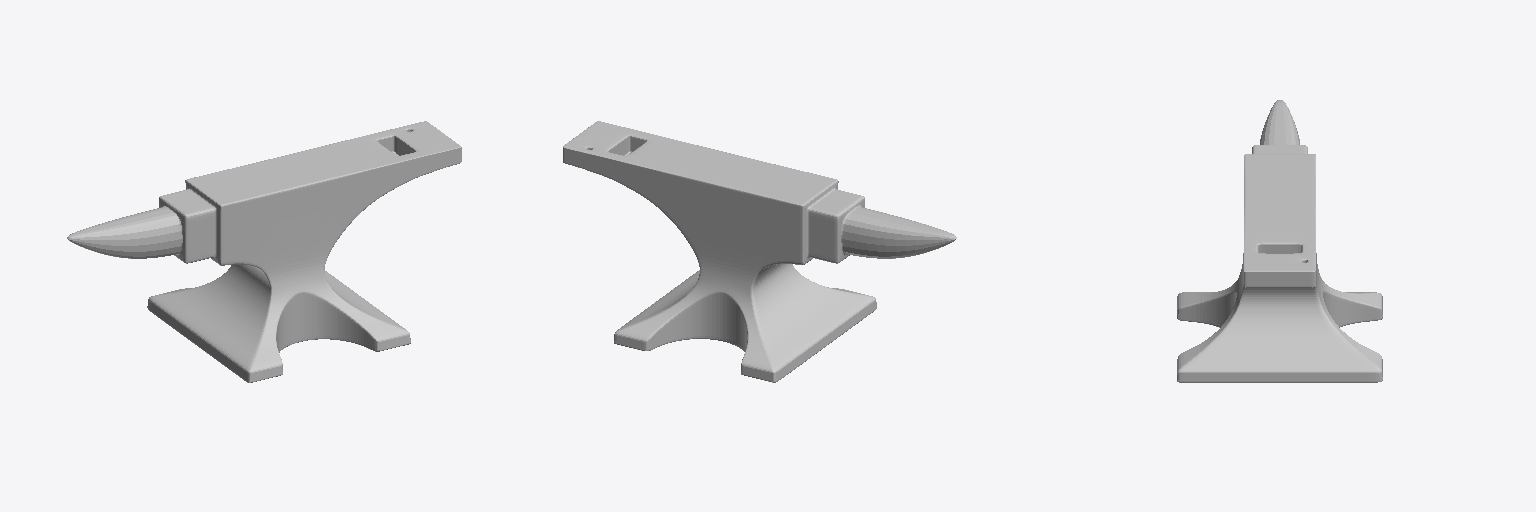
The model's file is anvil.obj.
3 views of the same model, side by side, from view 1: azimuth 30°, elevation 25°; view 2: azimuth 150°, elevation 25°; view 3: azimuth 270°, elevation 25° (orthographic).
Parts seen in each view (by area): view 1: Cube.003_Cube.000; view 2: Cube.003_Cube.000; view 3: Cube.003_Cube.000.
Boxes of the visible parts, box(x1,y1,x2,y2) form: Cube.003_Cube.000: box(67, 121, 461, 382); Cube.003_Cube.000: box(563, 121, 956, 382); Cube.003_Cube.000: box(1177, 100, 1382, 382).
Bounding box in the file's own units: 6.53 × 2.53 × 3.09.